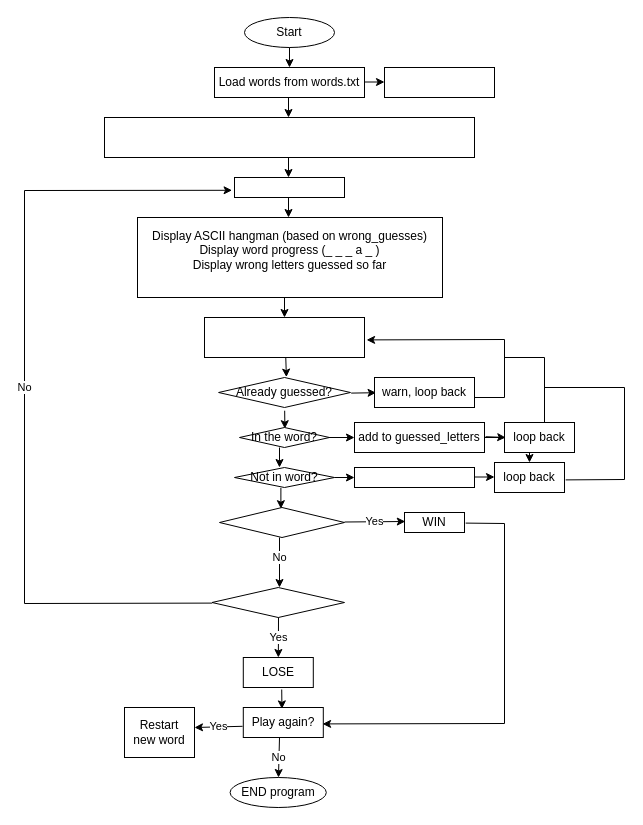
Some shapes in this 643 by 825 pixel diagram are drawn without their labels. The box of each missing label's shape, as (x1, y1, x2, y2) in pixels:
ALL letters revealed?: (218, 506, 344, 538)
GAME LOOP: (234, 176, 344, 198)
Initialize: guessed_letters = [], wrong_guesses = 0, max_wrong = 6: (104, 116, 474, 158)
Pick Random word: (384, 66, 494, 98)
Player inputs a letter: (204, 316, 364, 358)
Wrong guesses == 6?: (211, 586, 344, 618)
wrong_guesses + 1: (354, 466, 474, 488)
